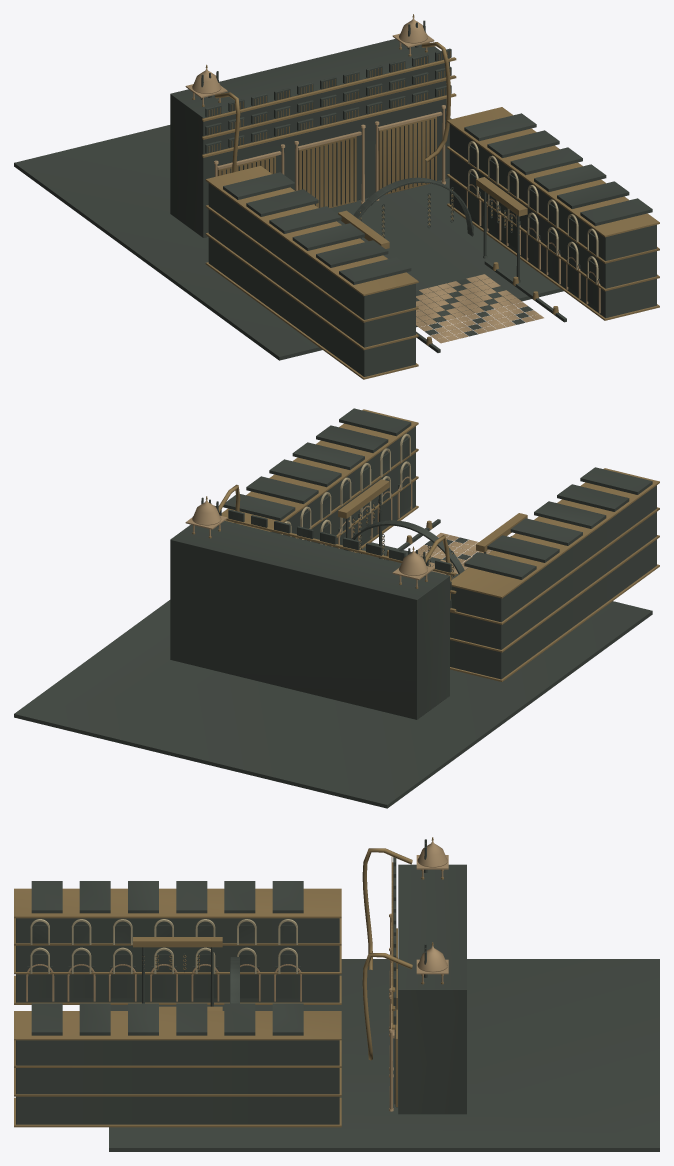
File: arena-20.glb
The picture shows the model from 3 angles, top to bottom: view 1: azimuth 30°, elevation 25°; view 2: azimuth 150°, elevation 25°; view 3: azimuth 270°, elevation 25°; orthographic projection. The views are drawn at different scales.
Visible parts, largest first — view 1: correction-dark, correction-bronze, correction-sand, correction-plaster; view 2: correction-dark, correction-bronze, correction-sand, correction-plaster; view 3: correction-dark, correction-bronze, correction-sand, correction-plaster.
Part boxes in pixels (x1=…): correction-dark: x1=14, y1=20, x2=656, y2=376; correction-bronze: x1=192, y1=14, x2=659, y2=379; correction-sand: x1=185, y1=17, x2=600, y2=343; correction-plaster: x1=468, y1=141, x2=598, y2=284; correction-dark: x1=14, y1=408, x2=656, y2=808; correction-bronze: x1=192, y1=409, x2=659, y2=681; correction-sand: x1=185, y1=476, x2=491, y2=587; correction-plaster: x1=280, y1=433, x2=410, y2=544; correction-dark: x1=16, y1=839, x2=659, y2=1151; correction-bronze: x1=14, y1=837, x2=443, y2=1127; correction-sand: x1=26, y1=840, x2=448, y2=1111; correction-plaster: x1=30, y1=919, x2=297, y2=973.
Size of the model in its own units: 65 by 26.86 by 93.8.
